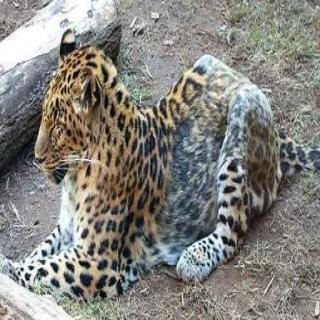Leopard: (20, 29, 309, 312)
